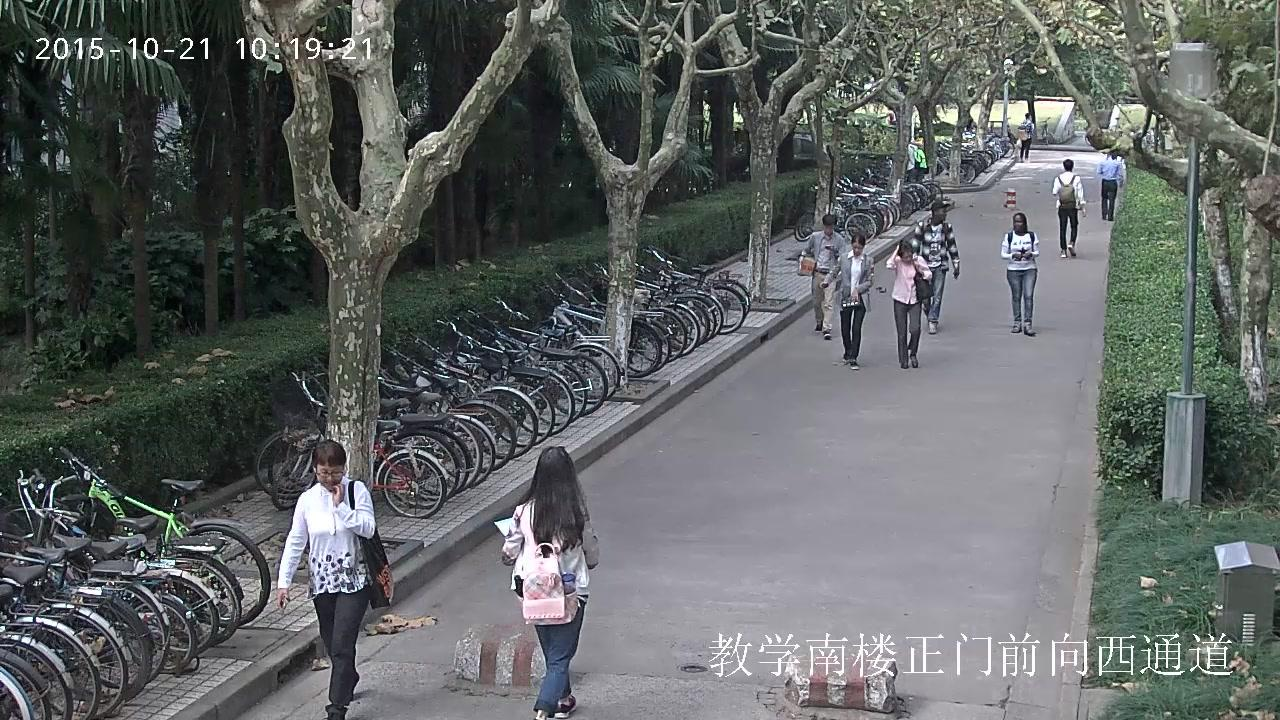face: (316, 463, 344, 488), (1013, 214, 1024, 232), (901, 251, 912, 263), (852, 243, 863, 255), (936, 209, 946, 221), (823, 223, 833, 235), (1029, 114, 1031, 120)
